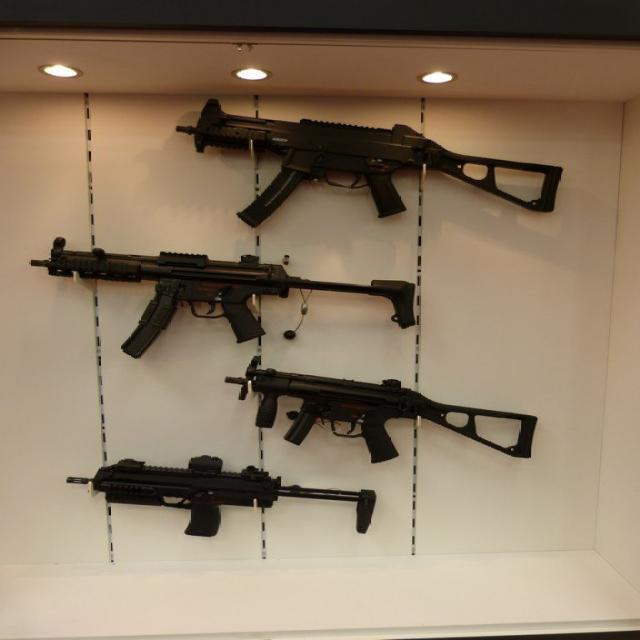firearm: (176, 98, 564, 228), (31, 235, 417, 358), (225, 356, 538, 464), (66, 454, 378, 537)
